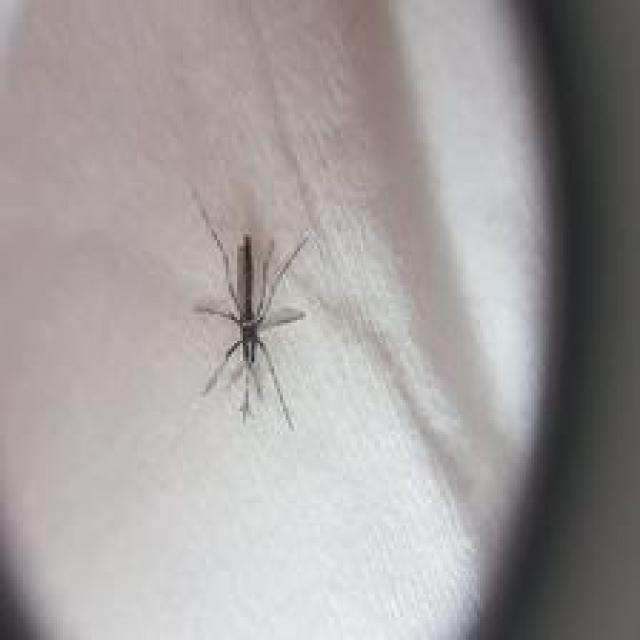Aedes albopictus: (189, 187, 314, 430)
